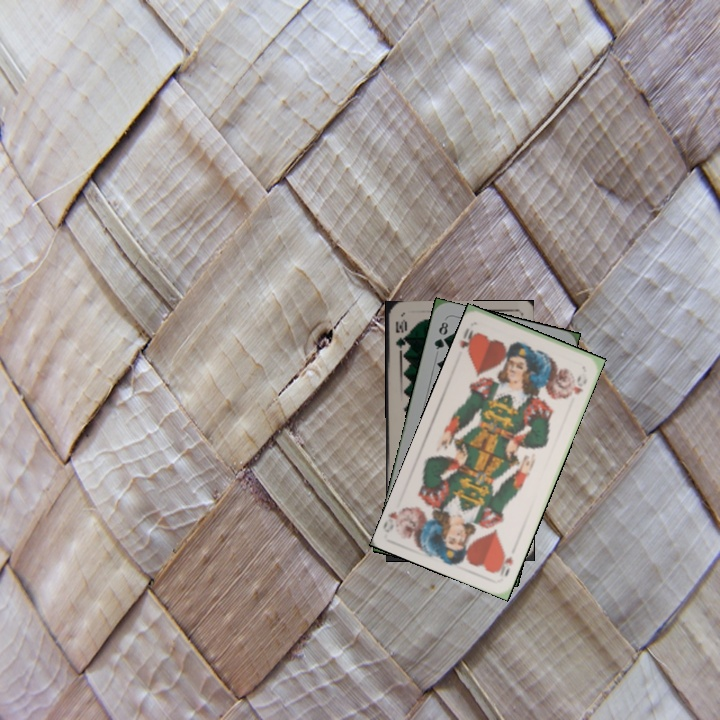G10: (391, 316, 408, 356)
G8: (430, 317, 451, 352)
HO: (455, 324, 481, 358), (496, 547, 516, 580)
